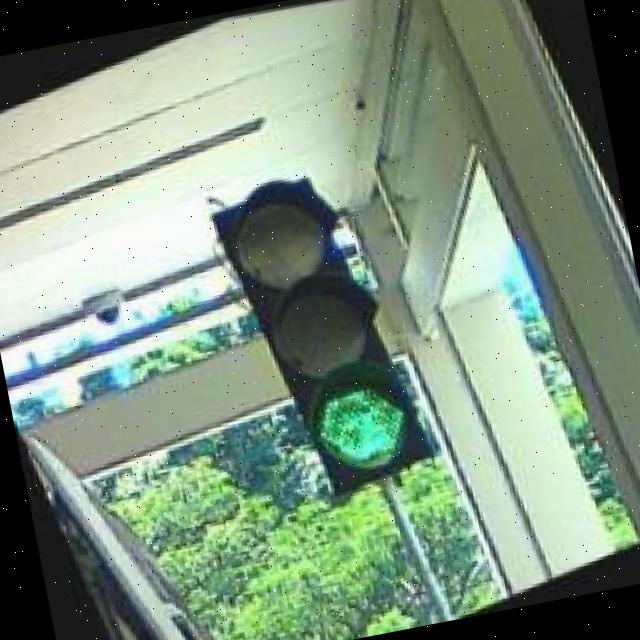green_light: (201, 152, 441, 513)
